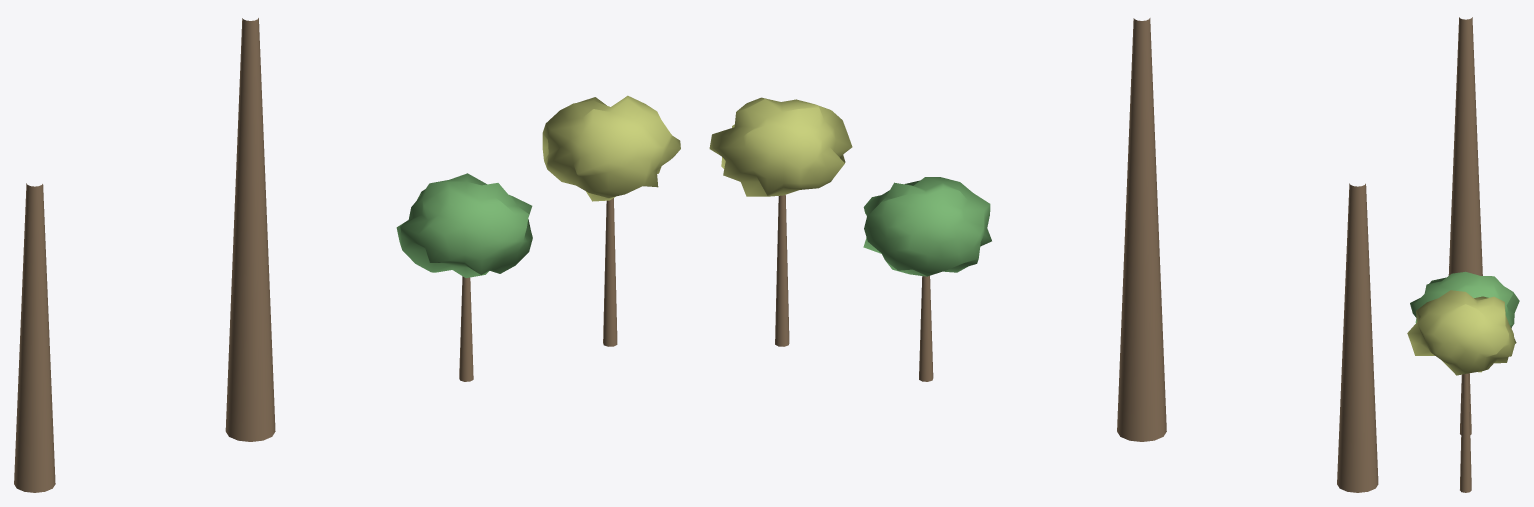
File: tree.glb
3 views of the same model, side by side, from view 1: azimuth 30°, elevation 25°; view 2: azimuth 150°, elevation 25°; view 3: azimuth 270°, elevation 25° (orthographic). The views are drawn at different scales.
Parts seen in each view (by area): view 1: TRUNK_B, BRANCH_B, BRANCH_A, TRUNK_A; view 2: TRUNK_B, BRANCH_B, BRANCH_A, TRUNK_A; view 3: BRANCH_B, TRUNK_B, BRANCH_A.
Boxes of the visible parts, x1,y1,x2,y2 form: TRUNK_B: (225, 18, 275, 441); BRANCH_B: (542, 95, 680, 346); BRANCH_A: (396, 173, 532, 381); TRUNK_A: (14, 183, 55, 492); TRUNK_B: (1117, 18, 1166, 441); BRANCH_B: (709, 97, 852, 346); BRANCH_A: (863, 177, 991, 381); TRUNK_A: (1337, 183, 1378, 492); BRANCH_B: (1407, 290, 1516, 492); TRUNK_B: (1448, 17, 1482, 275); BRANCH_A: (1410, 271, 1519, 434).
Size of the model in its own units: 9.09 by 5.5 by 1.69.
